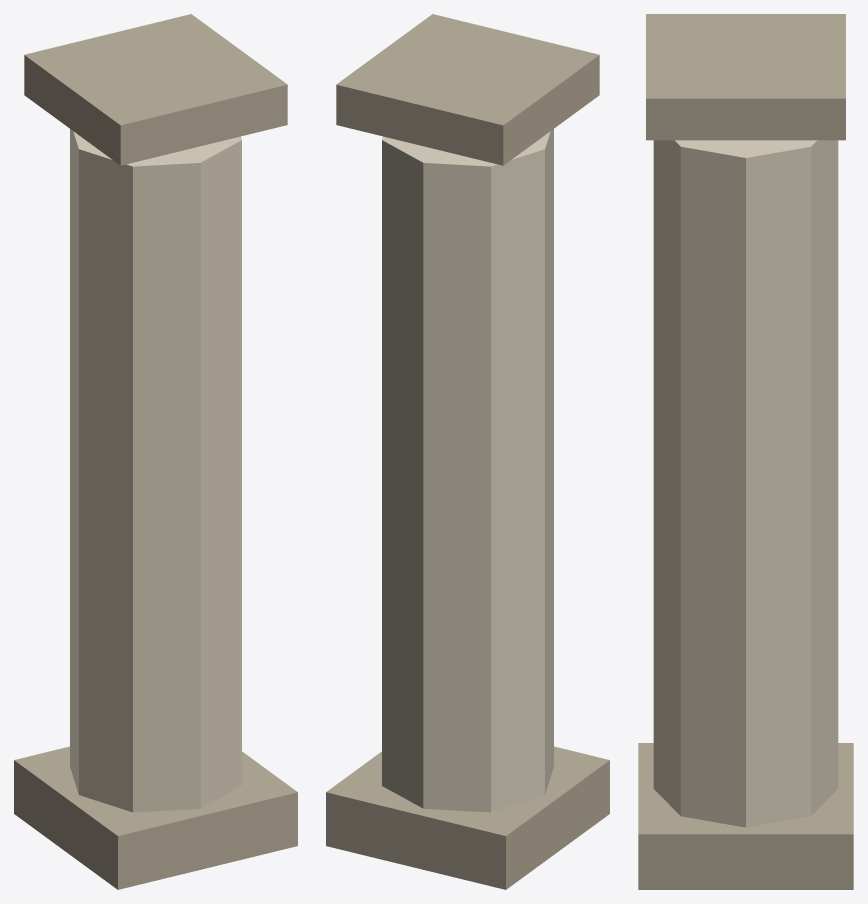
Rendered from pillar.glb.
3 renders of one model, left to right at view 1: azimuth 30°, elevation 25°; view 2: azimuth 150°, elevation 25°; view 3: azimuth 270°, elevation 25°, orthographic. The views are drawn at different scales.
Parts seen in each view (by area): view 1: Cylinder, Cube.001, Cube; view 2: Cylinder, Cube.001, Cube; view 3: Cylinder, Cube.001, Cube.
Boxes of the visible parts, x1=… form: Cylinder: x1=70, y1=129, x2=241, y2=812; Cube.001: x1=24, y1=14, x2=287, y2=165; Cube: x1=14, y1=746, x2=297, y2=889; Cylinder: x1=382, y1=129, x2=553, y2=812; Cube.001: x1=336, y1=14, x2=599, y2=165; Cube: x1=326, y1=746, x2=609, y2=889; Cylinder: x1=653, y1=140, x2=838, y2=827; Cube.001: x1=646, y1=14, x2=845, y2=140; Cube: x1=638, y1=743, x2=853, y2=889.
Size of the model in its own units: 0.7 by 2.83 by 0.7.
